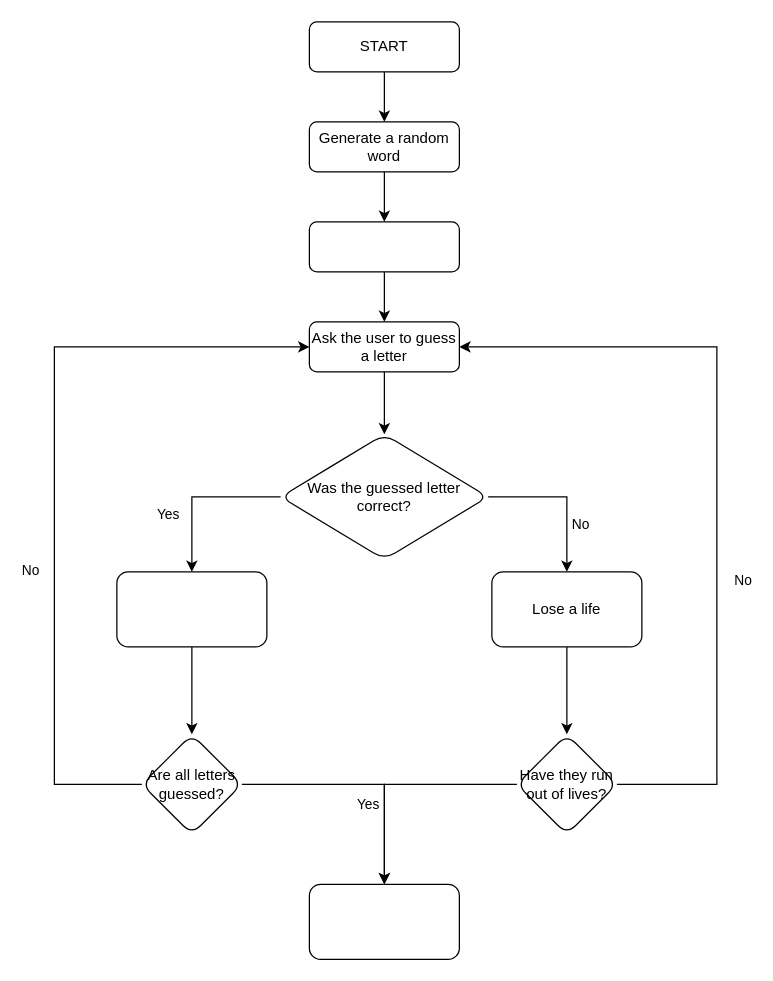
Image size: 773x981. Some labels were removed from this diagram. The centre of each missing label's shape, as x and y in pixels:
Create as many blanks as letters in the word: the point at 383,246
GAME OVER: the point at 383,921
Replace the blank with a letter: the point at 191,609
